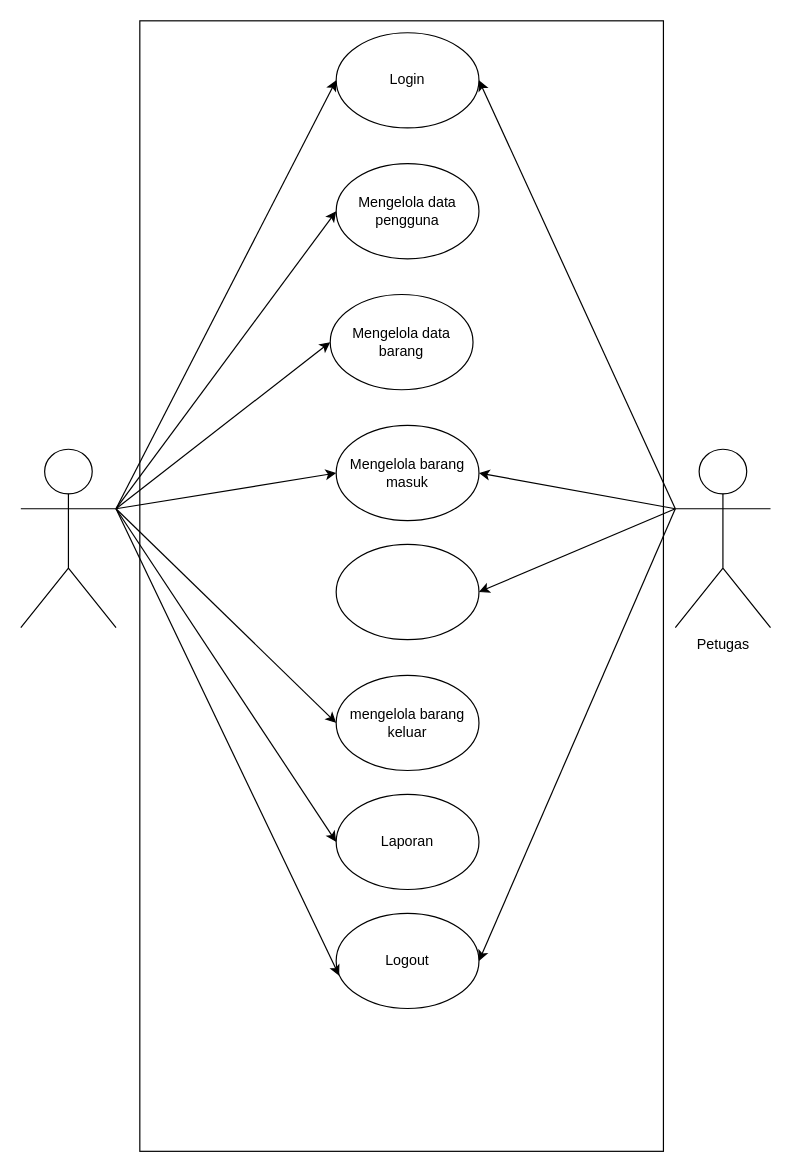
Some shapes in this 791 by 1172 pixel diagram are drawn without their labels. The shapes that lost their labels are listed below. From the top down, each one's centre as x and y in pixels, then its label:
At [68,538]: "Admin / Owner".
At [407,591]: "mengelola ajuan barang keluar".
